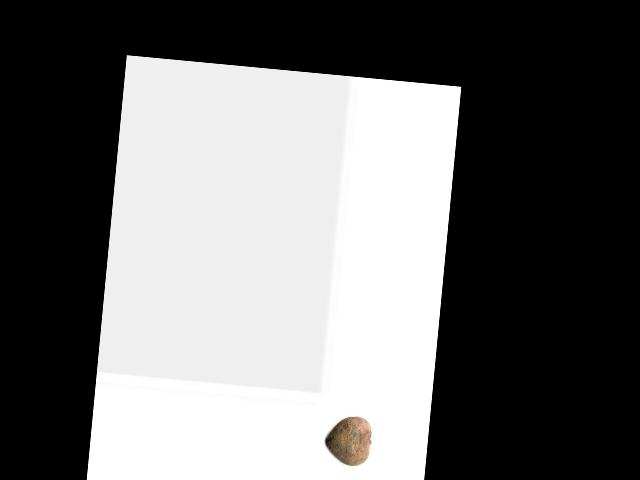beet: (323, 413, 372, 467)
